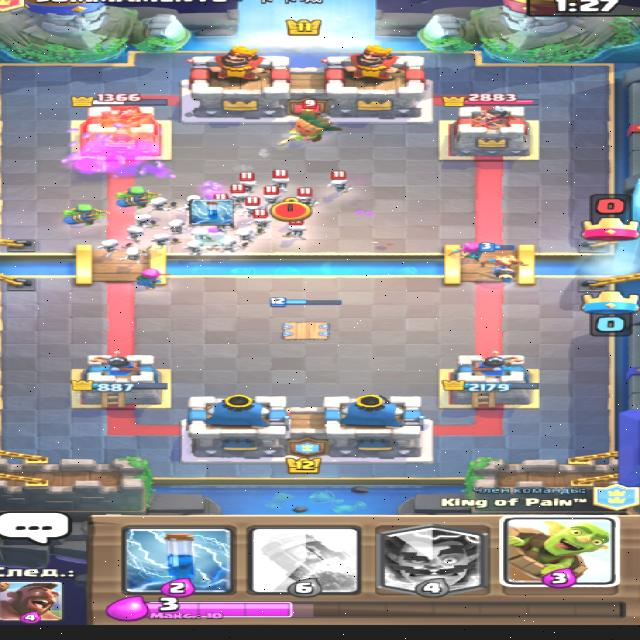Enemy-DartGoblin: (271, 98, 341, 148)
Enemy-Skeleton: (323, 169, 354, 195), (280, 218, 308, 240), (245, 208, 271, 230), (292, 186, 318, 208), (268, 168, 289, 192), (226, 183, 248, 204), (258, 184, 281, 203), (235, 171, 254, 192), (237, 196, 259, 214)
Player-Archer: (446, 240, 484, 261), (133, 267, 169, 289)
Player-Princess: (476, 242, 528, 284)
Player-Skeleton: (94, 236, 132, 258), (117, 244, 152, 265), (182, 238, 220, 256), (146, 196, 178, 214), (207, 239, 248, 253), (120, 225, 146, 242), (148, 232, 171, 250), (176, 193, 200, 210), (162, 218, 189, 233), (232, 227, 260, 241), (131, 212, 155, 228)
Player-SpearGoblin: (110, 184, 159, 208), (58, 203, 108, 226)
Player-Tesla-Hidden: (266, 296, 342, 342)
